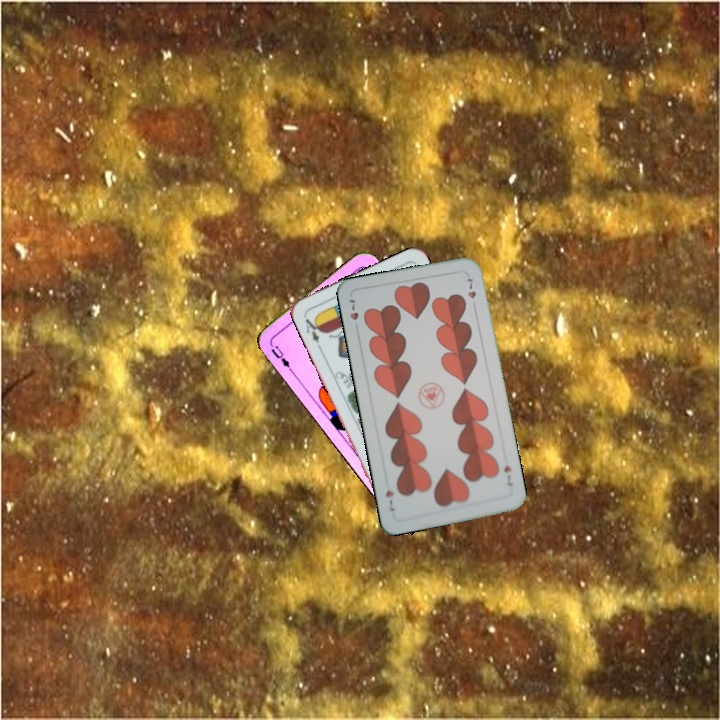EA: (300, 312, 324, 350)
EU: (266, 339, 295, 373)
H7: (345, 294, 361, 334), (500, 461, 516, 489)
